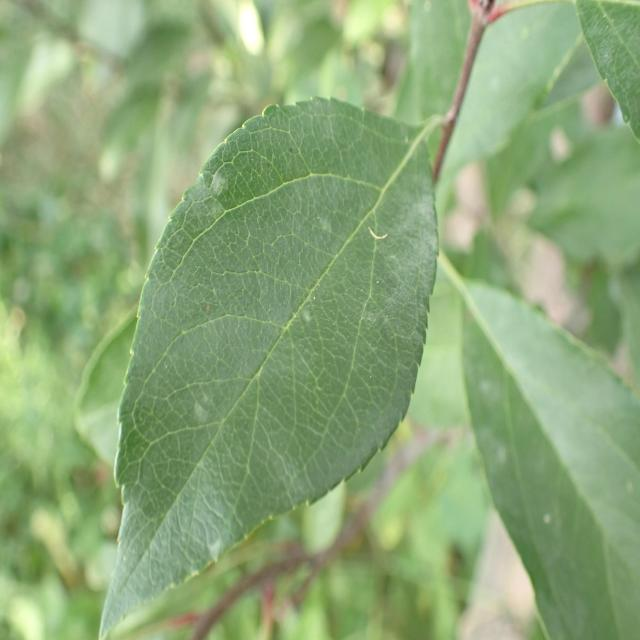Powdery_mildew: (118, 50, 432, 640), (451, 271, 640, 640)
